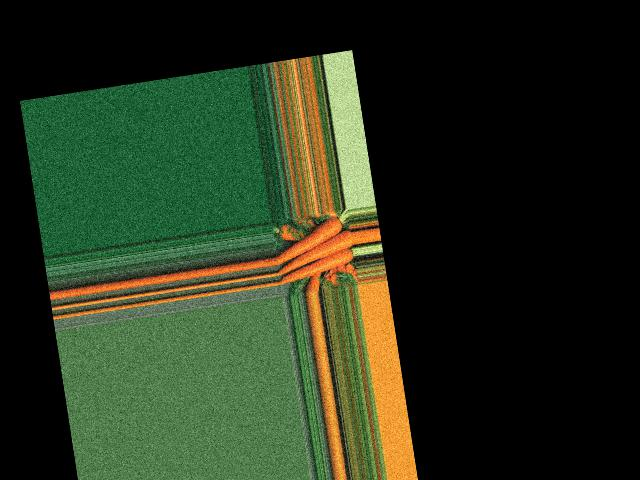carrot: (272, 215, 345, 265)
